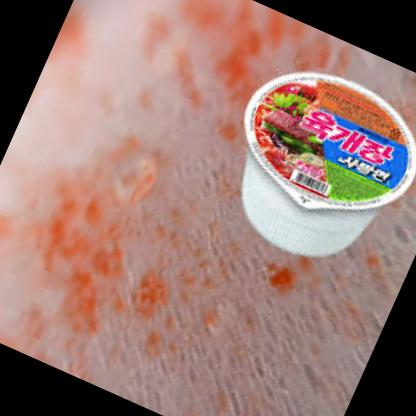Ramen: (199, 46, 416, 287)
